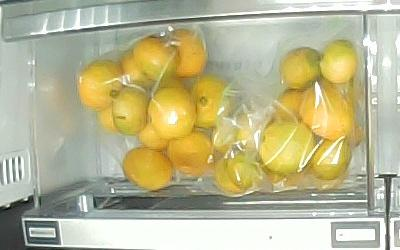tangerine_vinyl: (261, 119, 316, 173), (301, 82, 352, 140), (123, 146, 173, 192), (149, 87, 194, 138), (77, 60, 122, 110), (167, 129, 215, 175), (188, 77, 229, 128), (165, 29, 206, 79), (132, 36, 178, 80), (225, 147, 267, 189), (281, 47, 322, 89), (311, 137, 351, 180), (114, 86, 148, 135), (322, 39, 357, 82), (214, 155, 245, 196), (278, 88, 309, 122)
